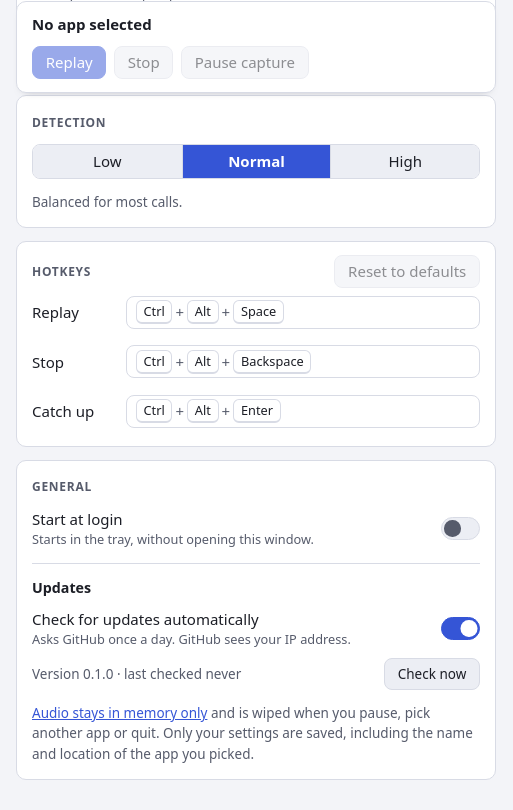
Test: general section updates › can check, but not install, in notify mode
(page scrolled)
Expected: the element named "Status" is shown, top-left (16, 0), bottom-right (496, 92)
Expected: the switch labelled "Check for updates automatically" is checked, top-left (441, 617), bottom-right (480, 640)
Click the button "Check now".
click(432, 674)  # box top-left (384, 658), bottom-right (480, 690)
(page scrolled)
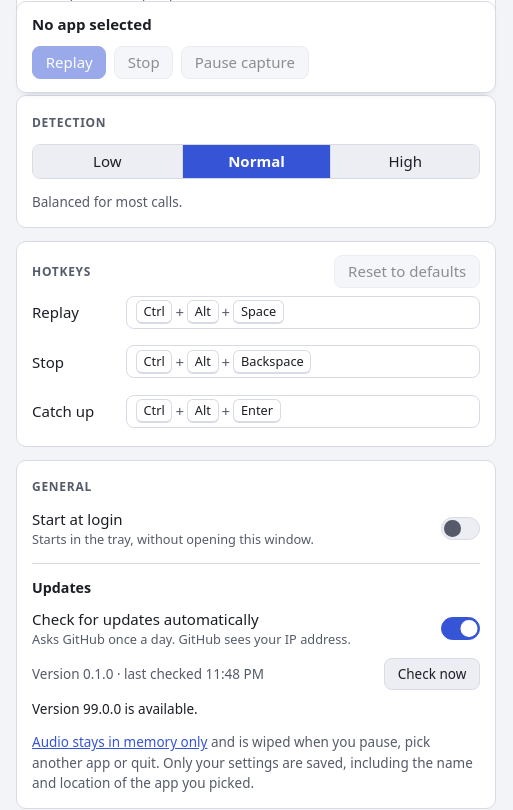
Expected: the text "Version 99.0.0 is available." is shown, top-left (32, 699), bottom-right (198, 719)
